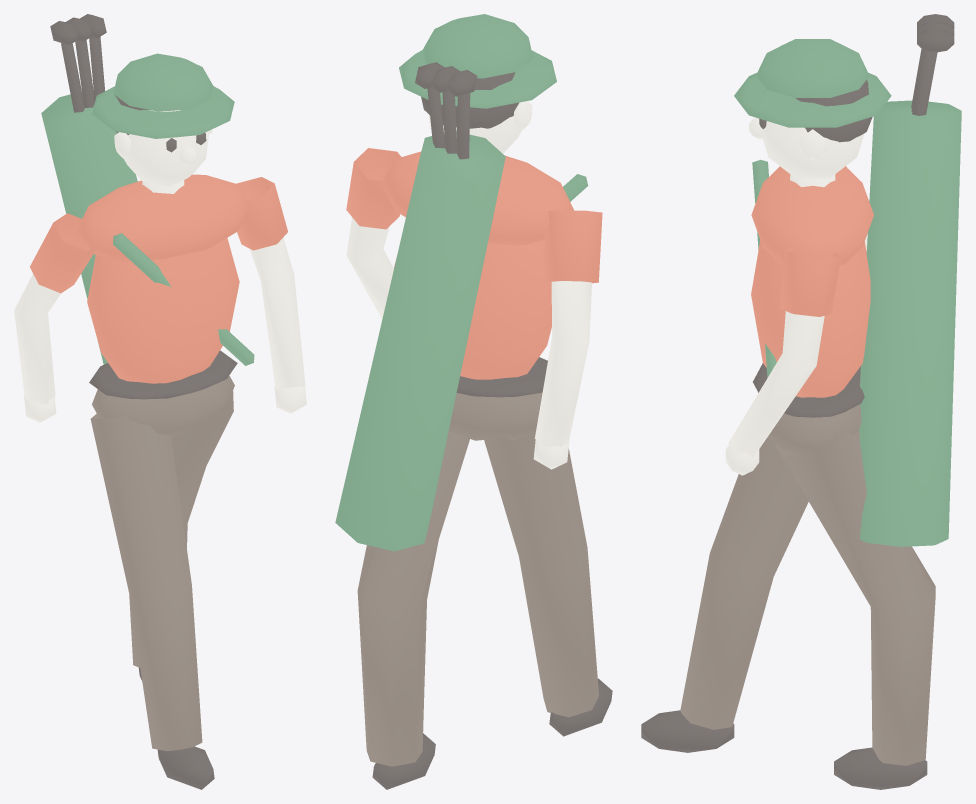
File: Blender_Walker_4.glb
3 renders of one model, left to right at view 1: azimuth 30°, elevation 25°; view 2: azimuth 150°, elevation 25°; view 3: azimuth 270°, elevation 25°, orthographic. The views are drawn at different scales.
Visible parts, largest first — view 1: Blender_Walker_4; view 2: Blender_Walker_4; view 3: Blender_Walker_4.
Part boxes in pixels (left/top/right/bottom): Blender_Walker_4: left=14, top=14, right=306, bottom=789; Blender_Walker_4: left=335, top=14, right=612, bottom=789; Blender_Walker_4: left=641, top=14, right=961, bottom=789.
Size of the model in its own units: 0.6877 by 1.85 by 0.7312.
